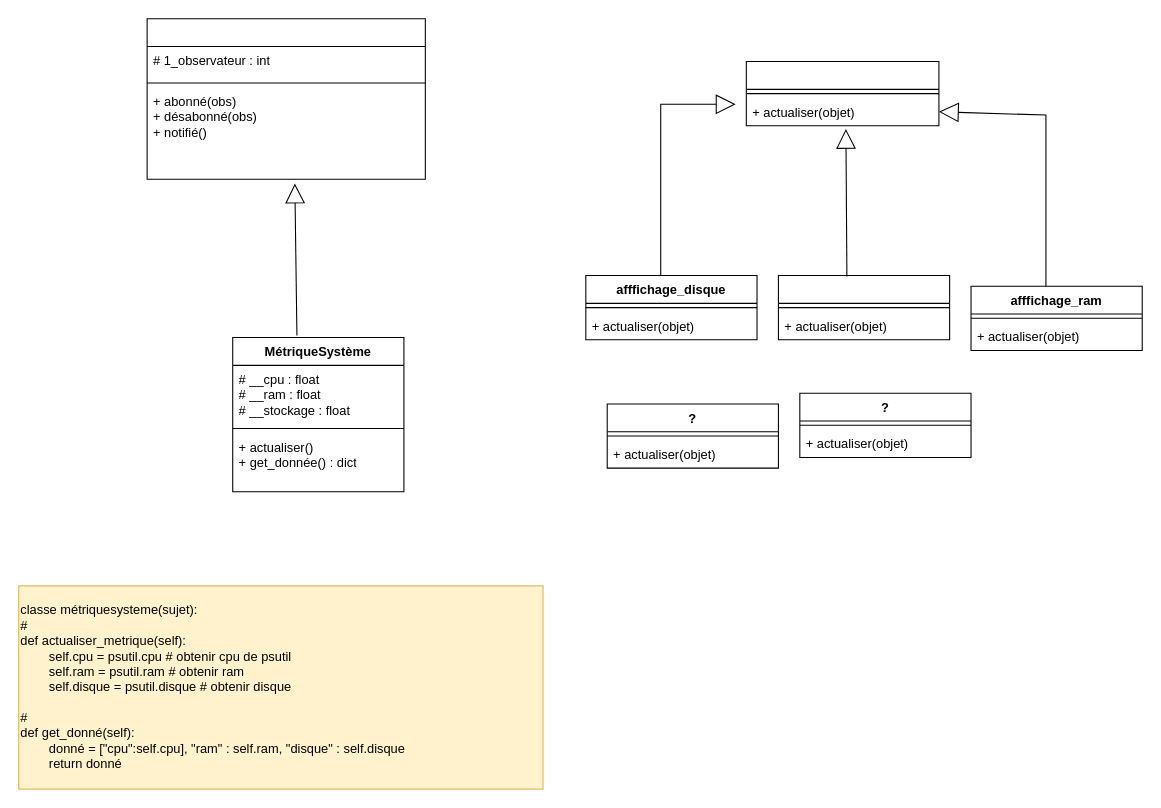
This 1161x808 diagram has some shape labels left out. Each missing label, with the box of its shape:
<<abstrait>> sujet: (146, 18, 425, 179)
<<abstraite>> Observateur: (745, 60, 939, 126)
afffichage_cpu: (777, 274, 950, 340)
